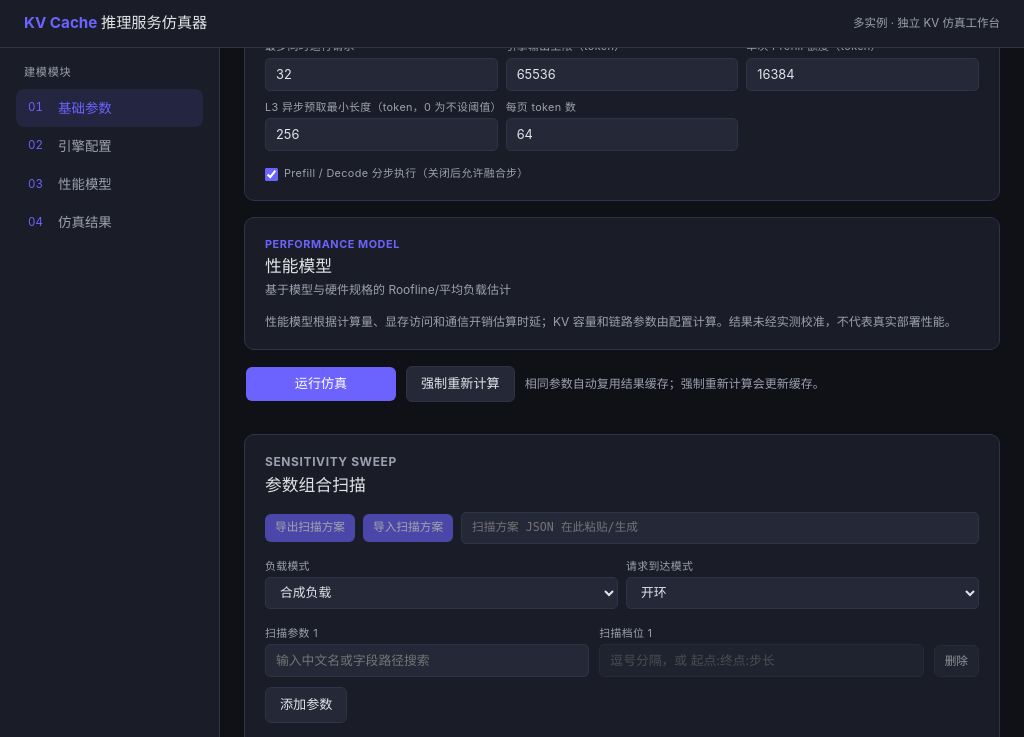
App › shows a cache hit and forces a recalculation with the current form
This screenshot has width=1024, height=737.
(page scrolled)
Click the button "运行仿真" at x=321, y=384, box [246, 367, 396, 401]
(page scrolled)
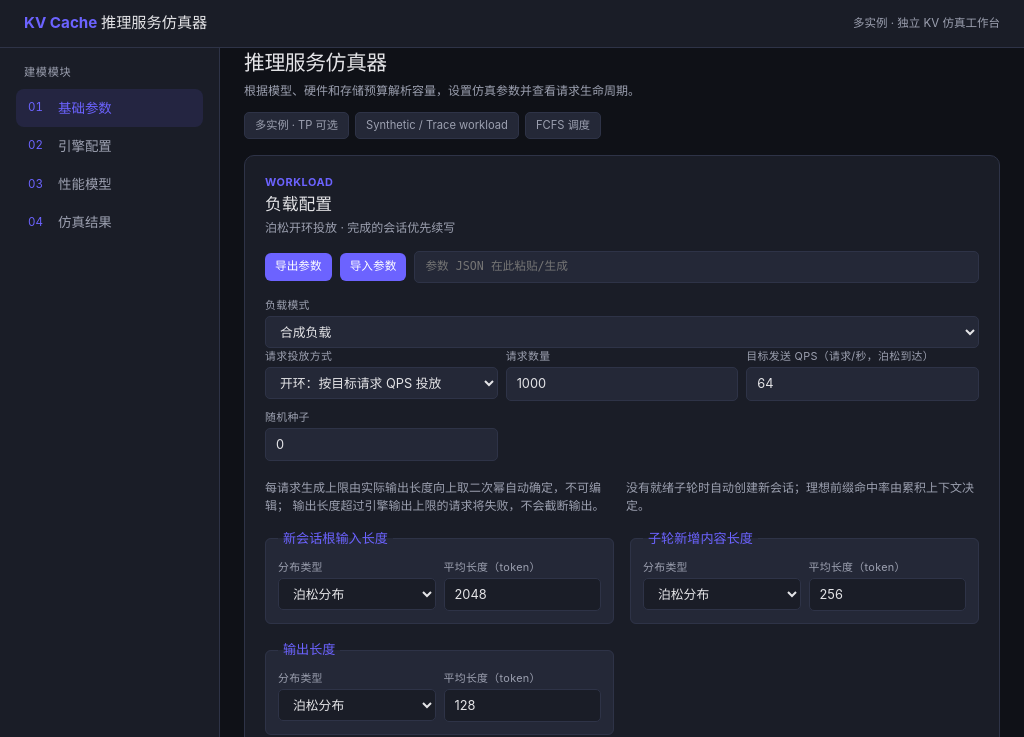
Replace the text in the number field labelled "请求数量" with "20" at x=622, y=384, box [506, 367, 738, 401]
(page scrolled)
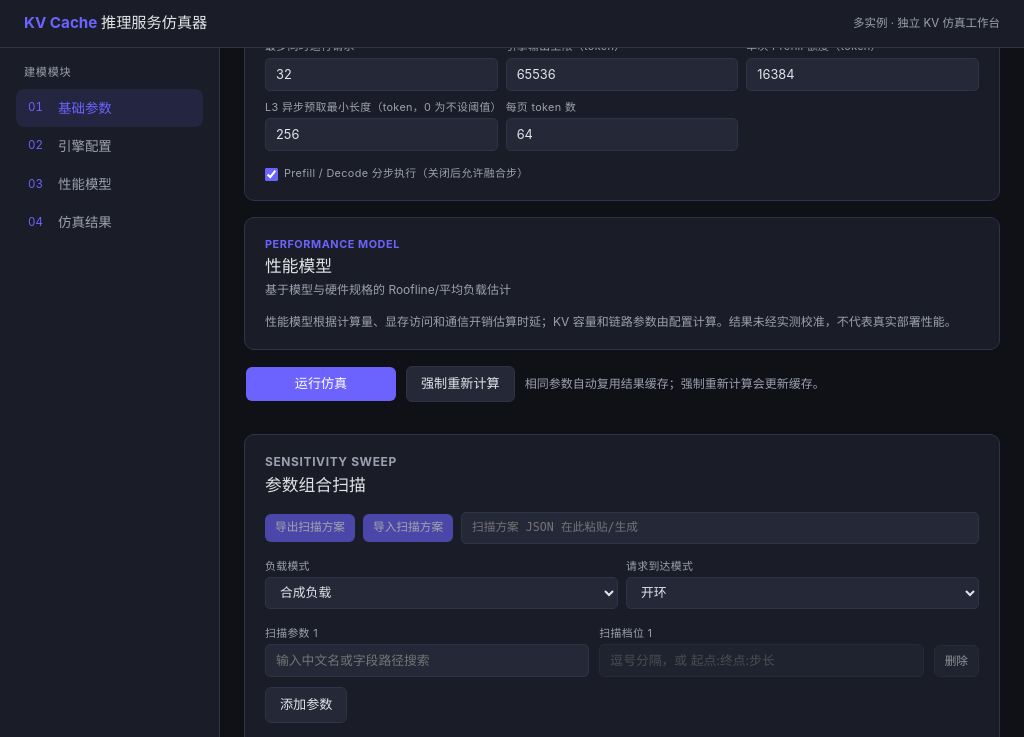
Click the button "强制重新计算" at x=460, y=384, box [406, 366, 515, 402]
(page scrolled)
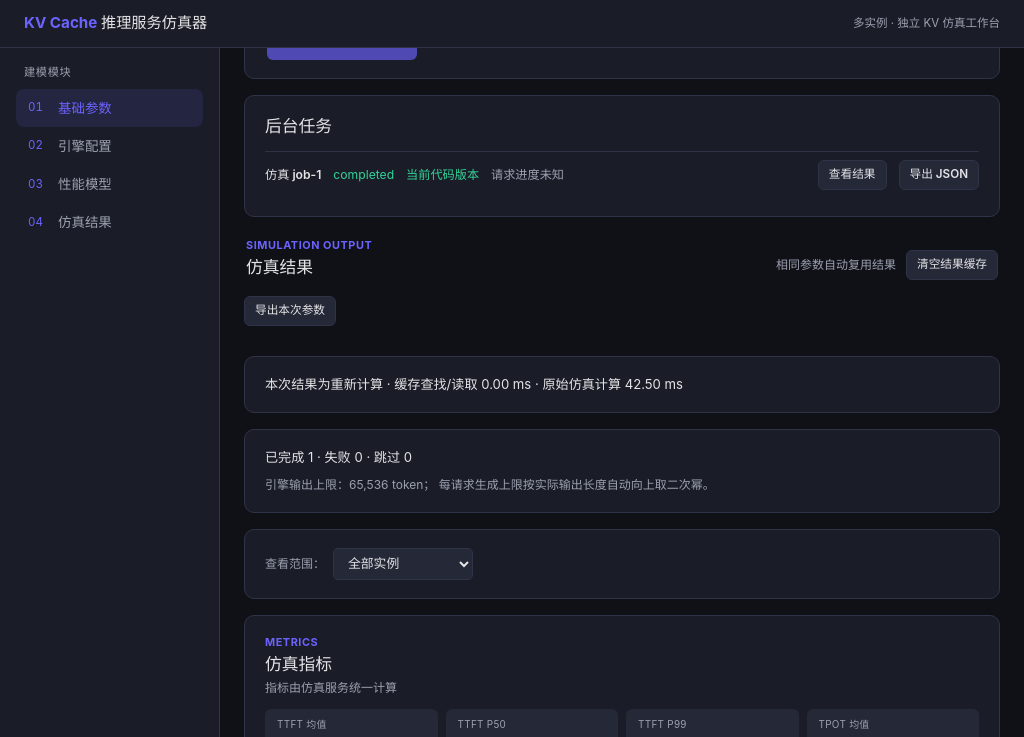
Expected: the text named "结果缓存状态" shows "本次结果为重新计算", [265, 376, 383, 392]
